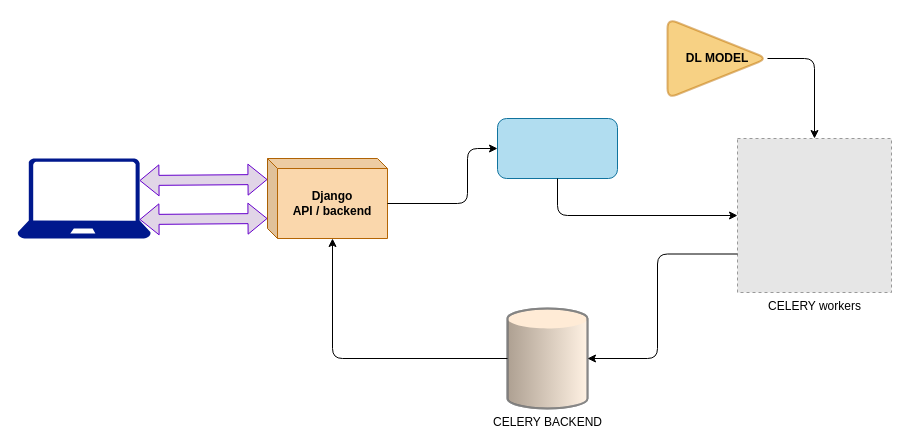
Some shapes in this 909 by 446 pixel diagram are drawn without their labels. Grey dashed boxes stand in for pictures. Here are the shapes that lost their labels. From the top down, the box of each, then its label:
(496, 118, 618, 178): RabbitMQ / Redis message Broker
(17, 158, 150, 238): Client
